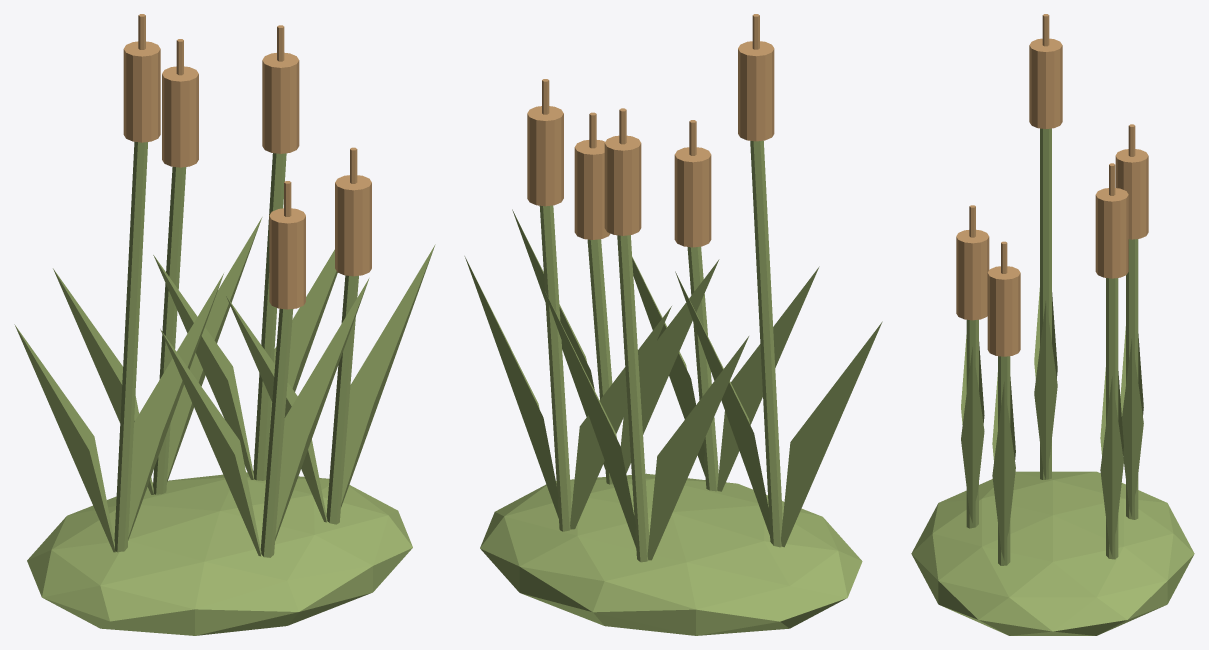
File: cattail_reed_clump_quiet_lake_fishing_22417.glb
3 views of the same model, side by side, from view 1: azimuth 30°, elevation 25°; view 2: azimuth 150°, elevation 25°; view 3: azimuth 270°, elevation 25° (orthographic). The views are drawn at different scales.
Parts seen in each view (by area): view 1: reed, wood; view 2: reed, wood; view 3: reed, wood.
Part boxes in pixels (x1,y1,x2,y2): reed: (14,141,435,635); wood: (123,14,371,309); reed: (464,140,882,635); wood: (527,14,774,247); reed: (911,128,1194,635); wood: (956,14,1148,356).
Bounding box in the file's own units: 0.8716 × 1.26 × 0.6001.
